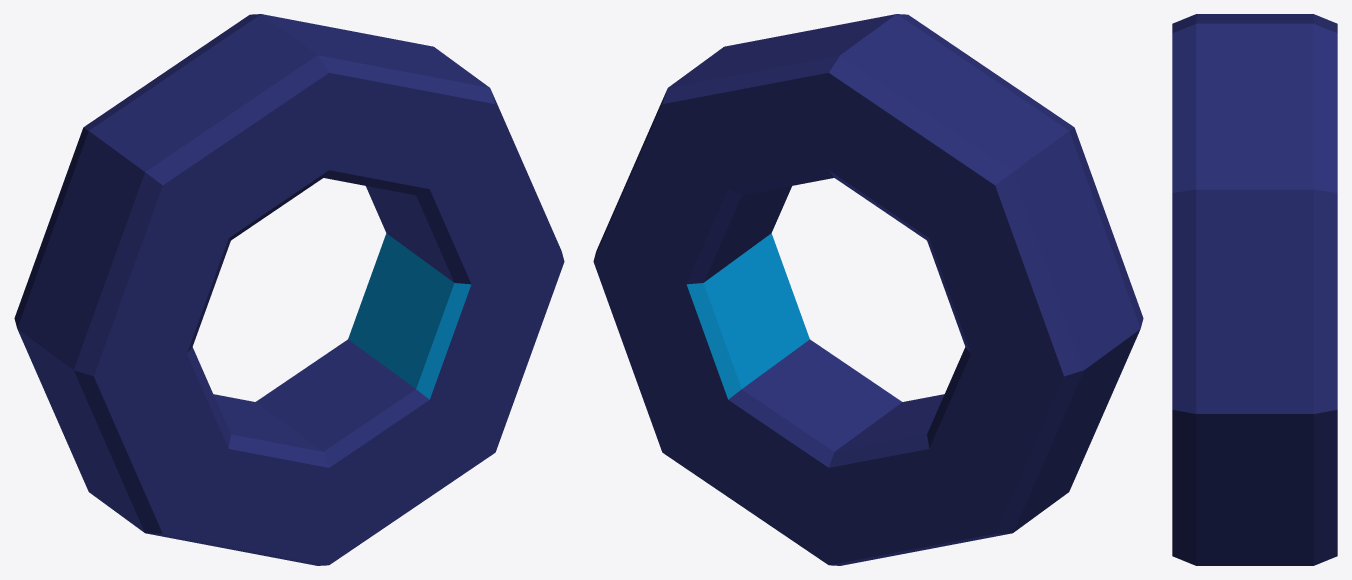
Rendered from debris1.fbx.
The picture shows the model from 3 angles, left to right: view 1: azimuth 30°, elevation 25°; view 2: azimuth 150°, elevation 25°; view 3: azimuth 270°, elevation 25°; orthographic projection. The views are drawn at different scales.
Visible parts, largest first — view 1: tire; view 2: tire; view 3: tire.
Boxes of the visible parts, <box> form: tire: <box>14,14,564,565</box>; tire: <box>593,14,1143,565</box>; tire: <box>1172,14,1337,565</box>.
Bounding box in the file's own units: 264 × 264 × 74.49.
